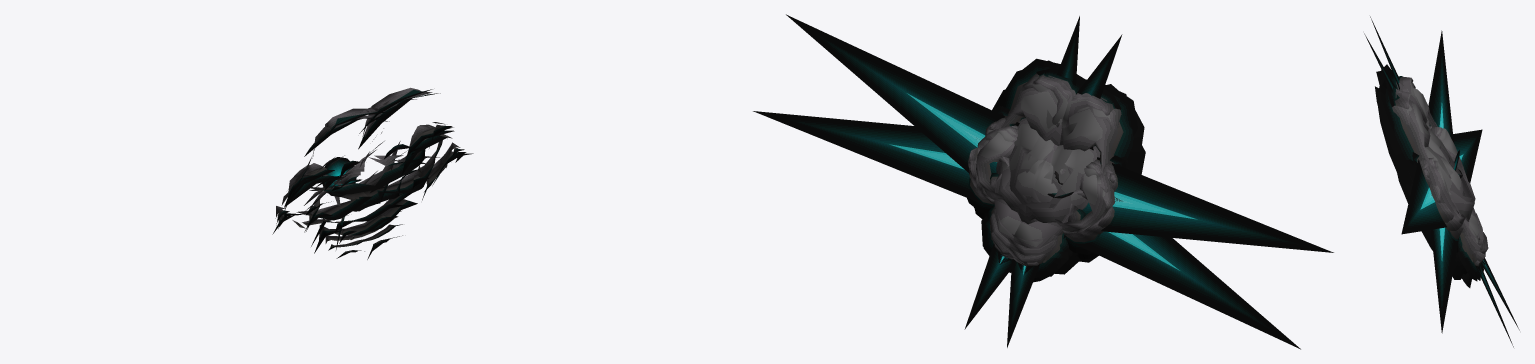
File: batBoardTeleport.glb
3 renders of one model, left to right at view 1: azimuth 30°, elevation 25°; view 2: azimuth 150°, elevation 25°; view 3: azimuth 270°, elevation 25°, orthographic. The views are drawn at different scales.
Parts seen in each view (by area): view 1: poofGlow07 (×2), poofGlow09 (×2), poof09 (×2), poof07, poof06; view 2: poofGlow02 (×2), poof07 (×2), poof06 (×2), poofGlow03 (×2), poof09 (×2), poof08 (×2), poof02 (×2), poofGlow08 (×2), poofGlow07 (×2), poof04 (×2), poof11 (×2), poof05 (×2); view 3: poofGlow02 (×2), poof07 (×2), poof09 (×2), poofGlow07 (×2), poof06 (×2), poofGlow03 (×2), poof08 (×2), poof11 (×2), poofGlow10 (×2), poofGlow06, poofGlow08, poof02 (×2) (+4 smaller).
Part boxes in pixels (x1=…): poofGlow07 (×2): x1=285, y1=93, x2=449, y2=249; poofGlow09 (×2): x1=272, y1=89, x2=466, y2=253; poof09 (×2): x1=278, y1=87, x2=453, y2=239; poof07: x1=306, y1=134, x2=452, y2=213; poof06: x1=304, y1=141, x2=400, y2=205; poofGlow02 (×2): x1=753, y1=14, x2=1333, y2=349; poof07 (×2): x1=976, y1=82, x2=1123, y2=248; poof06 (×2): x1=996, y1=118, x2=1100, y2=224; poofGlow03 (×2): x1=964, y1=16, x2=1122, y2=347; poof09 (×2): x1=969, y1=74, x2=1113, y2=260; poof08 (×2): x1=970, y1=73, x2=1121, y2=244; poof02 (×2): x1=889, y1=93, x2=1197, y2=270; poofGlow08 (×2): x1=967, y1=58, x2=1137, y2=255; poofGlow07 (×2): x1=974, y1=70, x2=1144, y2=273; poof04 (×2): x1=1015, y1=150, x2=1066, y2=202; poof11 (×2): x1=968, y1=88, x2=1117, y2=265; poof05 (×2): x1=1020, y1=136, x2=1072, y2=202; poofGlow02 (×2): x1=1401, y1=30, x2=1485, y2=333; poof07 (×2): x1=1400, y1=88, x2=1481, y2=243; poof09 (×2): x1=1395, y1=76, x2=1483, y2=259; poofGlow07 (×2): x1=1375, y1=71, x2=1462, y2=278; poof06 (×2): x1=1425, y1=130, x2=1475, y2=221; poofGlow03 (×2): x1=1364, y1=16, x2=1519, y2=347; poof08 (×2): x1=1392, y1=82, x2=1479, y2=243; poof11 (×2): x1=1398, y1=88, x2=1488, y2=265; poofGlow10 (×2): x1=1386, y1=71, x2=1477, y2=281; poofGlow06: x1=1378, y1=107, x2=1460, y2=279; poofGlow08: x1=1380, y1=80, x2=1466, y2=271; poof02 (×2): x1=1420, y1=103, x2=1463, y2=260.
Bounding box in the file's own units: 56.36 × 25.93 × 12.29.
Materials: 2 (2 with a texture image).
